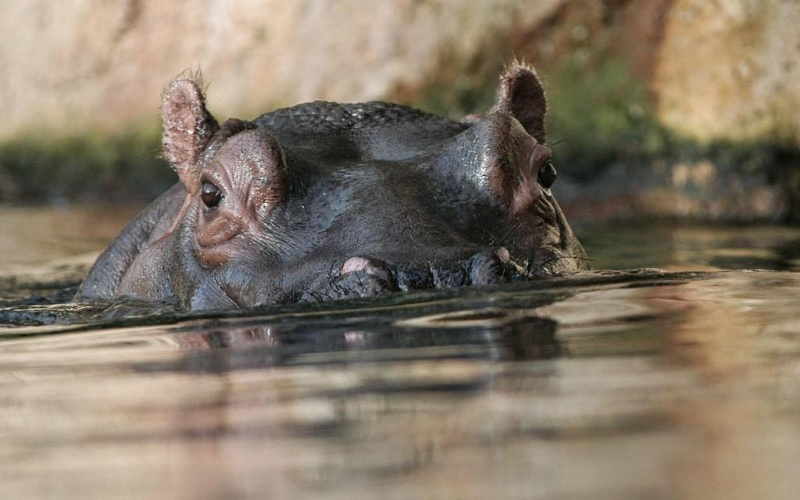hipopotamo: (70, 50, 634, 326)
